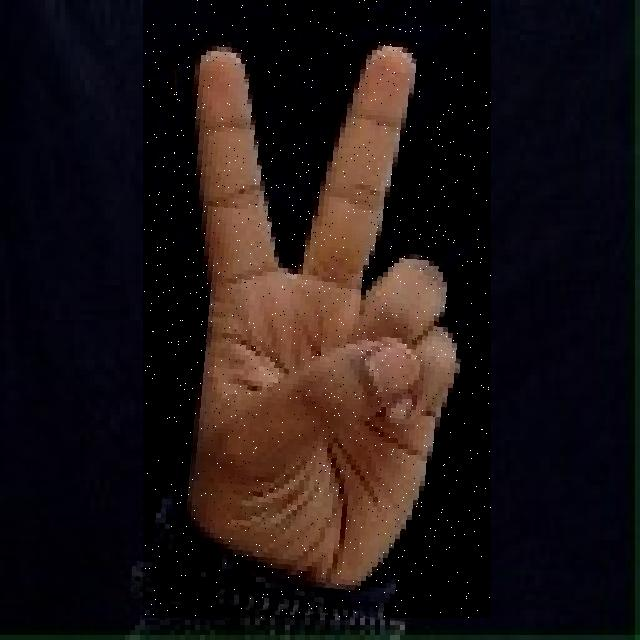No: (143, 0, 491, 618)
